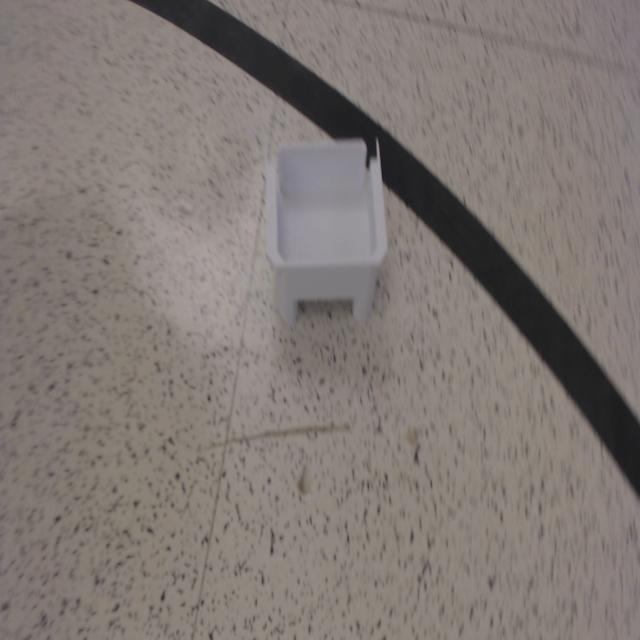wbox: (264, 133, 389, 329)
